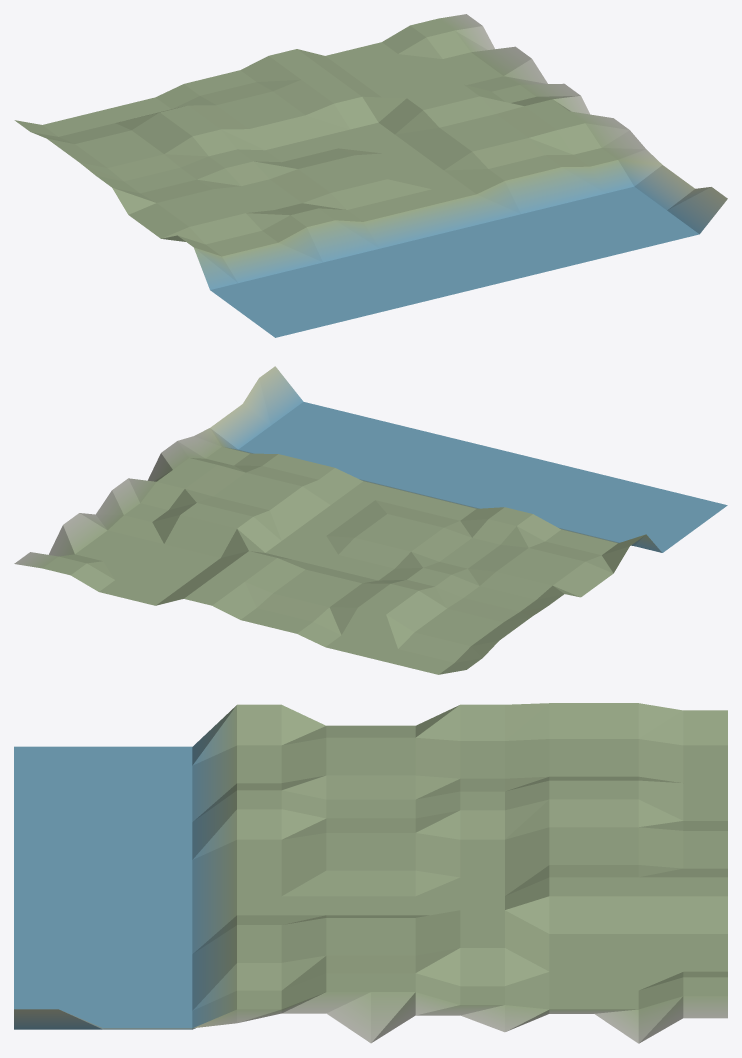
3 views of the same model, one above another, from view 1: azimuth 30°, elevation 25°; view 2: azimuth 150°, elevation 25°; view 3: azimuth 270°, elevation 25° (orthographic). The views are drawn at different scales.
Size of the model in its own units: 32 by 2.18 by 32.
